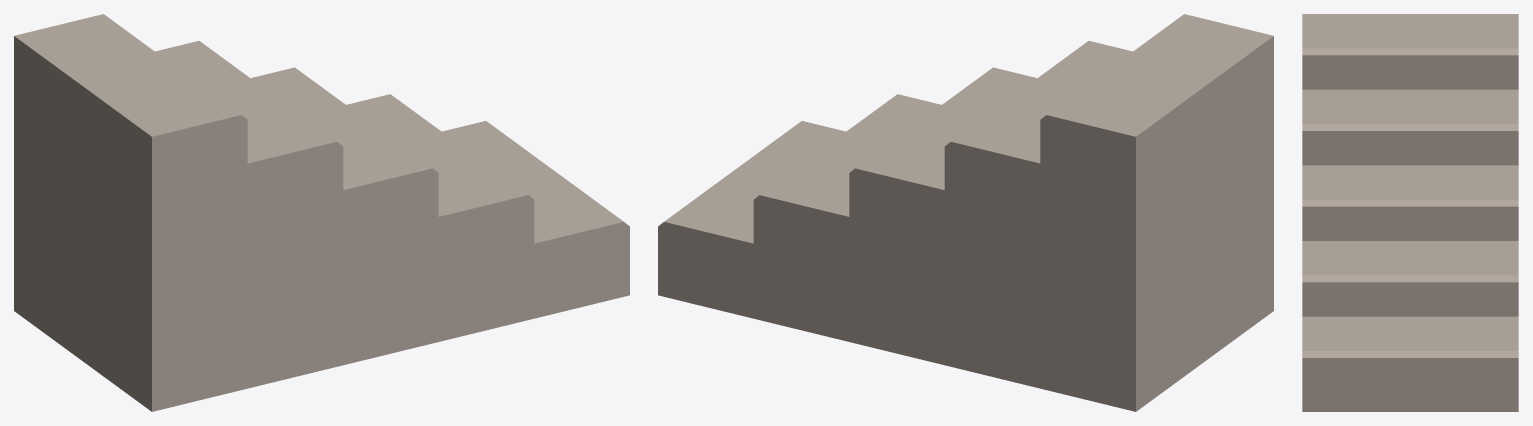
The model's file is Stone_Steps.glb.
The picture shows the model from 3 angles, left to right: view 1: azimuth 30°, elevation 25°; view 2: azimuth 150°, elevation 25°; view 3: azimuth 270°, elevation 25°; orthographic projection. The views are drawn at different scales.
Visible parts, largest first — view 1: object1; view 2: object1; view 3: object1.
Part boxes in pixels (bbox=[...]): object1: bbox=[14, 14, 629, 411]; object1: bbox=[658, 14, 1273, 411]; object1: bbox=[1302, 14, 1518, 411].
Bounding box in the file's own units: 2 × 1.1 × 1.
